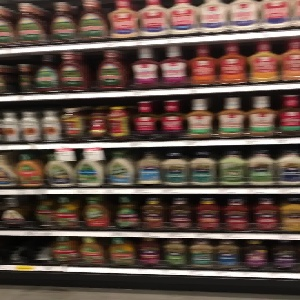void: (1, 236, 52, 266)
